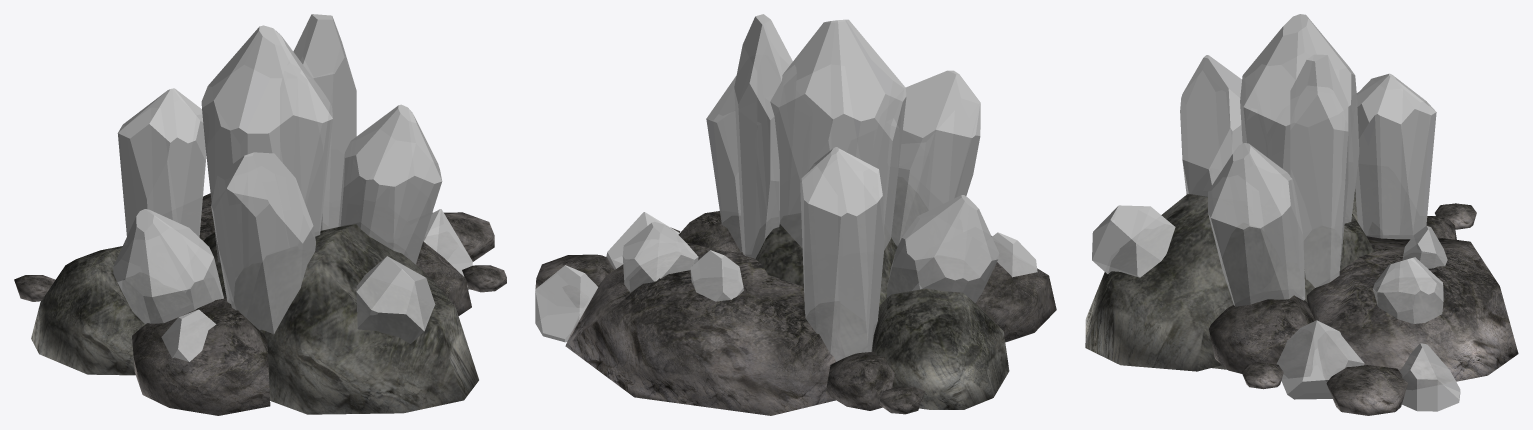
Rendered from Crystal Rock Cluster A.fbx.
The picture shows the model from 3 angles, left to right: view 1: azimuth 30°, elevation 25°; view 2: azimuth 150°, elevation 25°; view 3: azimuth 270°, elevation 25°; orthographic projection. The views are drawn at different scales.
Parts seen in each view (by area): view 1: Cube.144, Cube.151; view 2: Cube.144, Cube.151; view 3: Cube.144, Cube.151.
Part boxes in pixels (left/top/right/bottom): Cube.144: left=113, top=14, right=472, bottom=361; Cube.151: left=14, top=193, right=506, bottom=415; Cube.144: left=535, top=14, right=1037, bottom=361; Cube.151: left=535, top=177, right=1056, bottom=415; Cube.144: left=1092, top=14, right=1460, bottom=411; Cube.151: left=1085, top=189, right=1518, bottom=415.
Bounding box in the file's own units: 770 × 680 × 546.
